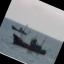fishing boat: (8, 30, 50, 60), (8, 17, 31, 36)
